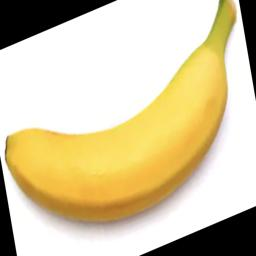Banana Fresh: (0, 39, 256, 256)
